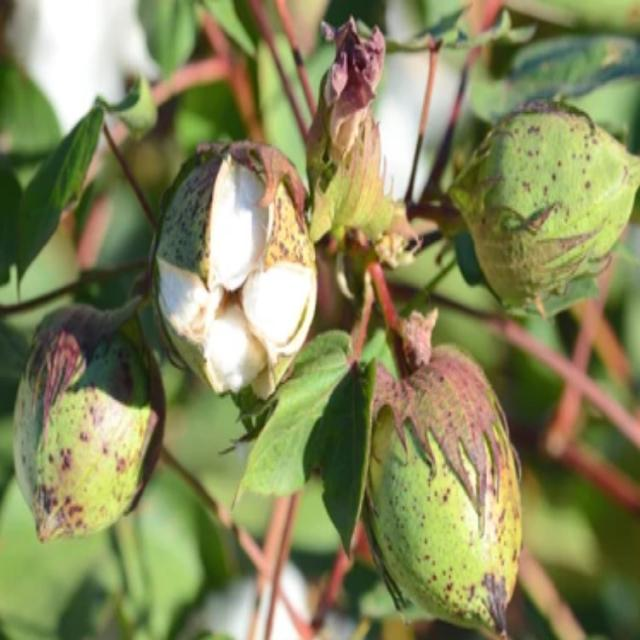Cotton Blossom: (316, 22, 391, 244)
Early Boll: (360, 342, 522, 633), (17, 296, 158, 548), (473, 103, 640, 309)
Split Cotton Boll: (157, 144, 308, 391)
